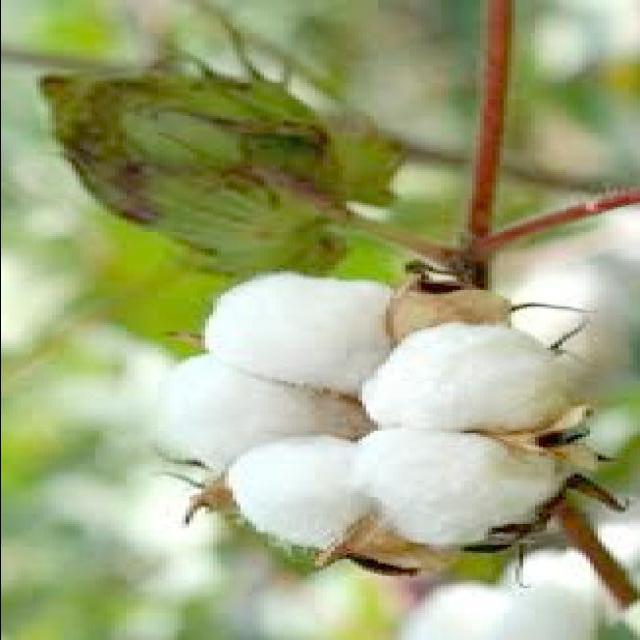Early Boll: (25, 59, 391, 267)
Matured Cotton Boll: (136, 273, 578, 563)
